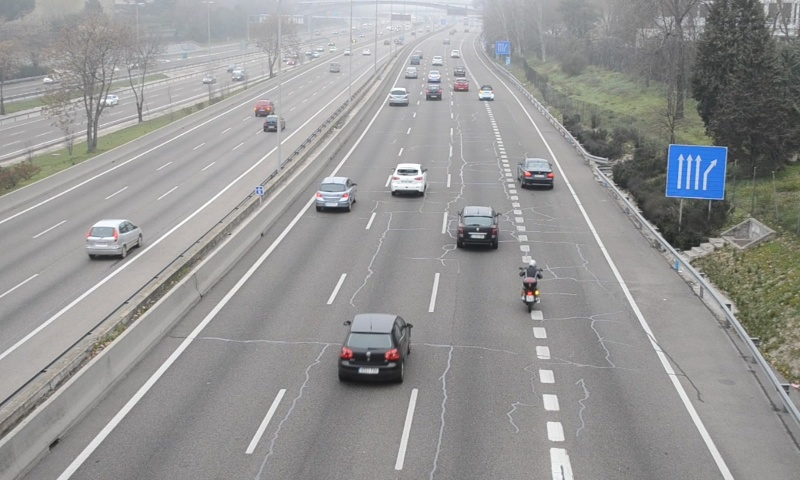car: (338, 313, 411, 382), (456, 206, 498, 248), (316, 175, 356, 209), (390, 163, 426, 194), (519, 158, 554, 189), (388, 86, 409, 107), (478, 84, 494, 102), (426, 84, 442, 101)
motorcycle: (518, 259, 545, 313)
